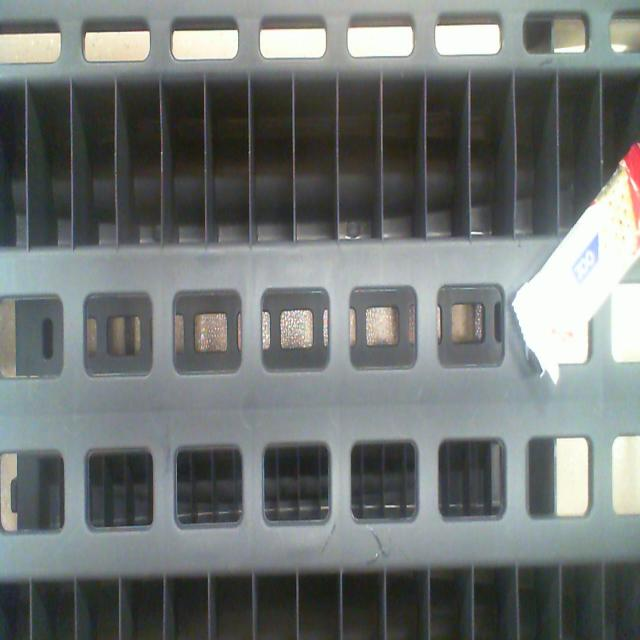snack: (511, 140, 640, 375)
